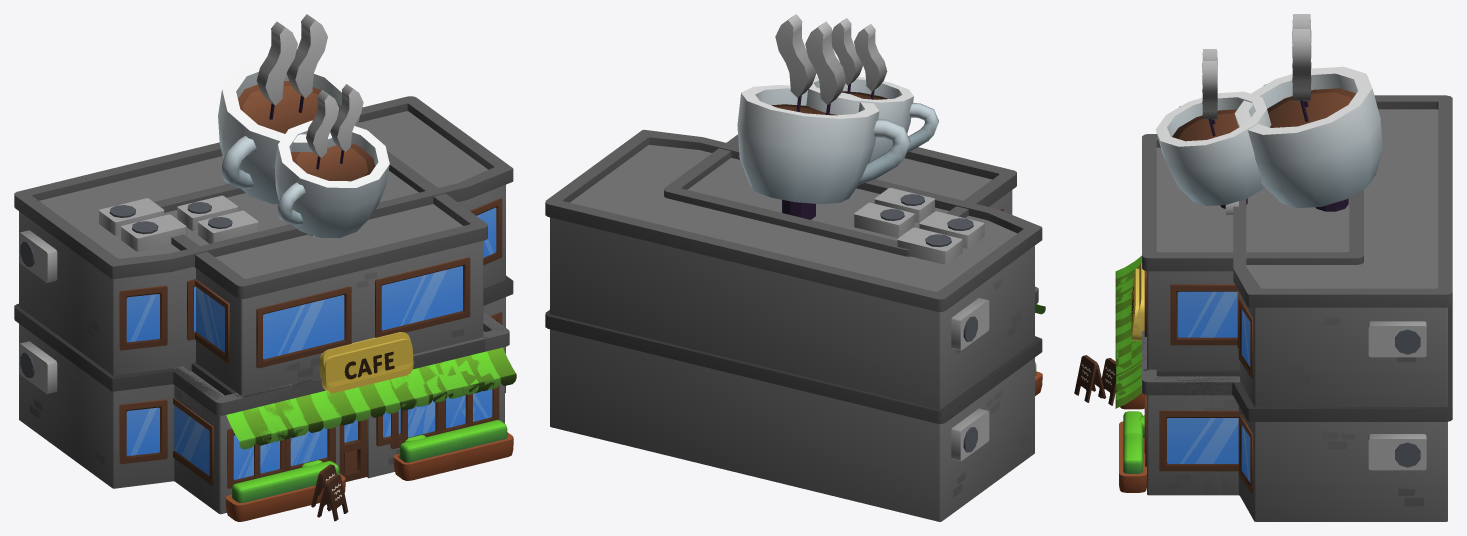
Rendered from Cafe.fbx.
3 views of the same model, side by side, from view 1: azimuth 30°, elevation 25°; view 2: azimuth 150°, elevation 25°; view 3: azimuth 270°, elevation 25° (orthographic). The views are drawn at different scales.
Parts seen in each view (by area): view 1: Store Cafe Level 5, Store Cafe Level 4, Store Cafe Level 3, Store Cafe Level 2, Store Cafe Level 1; view 2: Store Cafe Level 5, Store Cafe Level 4; view 3: Store Cafe Level 5, Store Cafe Level 4, Store Cafe Level 3, Store Cafe Level 2, Store Cafe Level 1.
Part boxes in pixels (x1,y1,x2,y2): Store Cafe Level 5: (14, 14, 513, 521); Store Cafe Level 4: (154, 84, 494, 512); Store Cafe Level 3: (173, 234, 516, 516); Store Cafe Level 2: (277, 332, 462, 521); Store Cafe Level 1: (311, 352, 429, 511); Store Cafe Level 5: (545, 14, 1042, 521); Store Cafe Level 4: (664, 18, 1016, 256); Store Cafe Level 5: (1119, 14, 1452, 521); Store Cafe Level 4: (1115, 49, 1363, 454); Store Cafe Level 3: (1115, 201, 1240, 495); Store Cafe Level 2: (1074, 263, 1146, 402); Store Cafe Level 1: (1098, 307, 1144, 405).
Size of the model in its own units: 1923 by 1775 by 1491.
